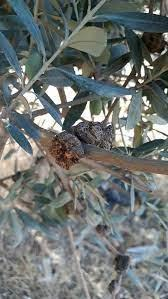Tuberculosis: (49, 129, 85, 172), (72, 119, 115, 154), (141, 26, 168, 55), (113, 254, 130, 274), (95, 222, 112, 239), (107, 278, 120, 297)
